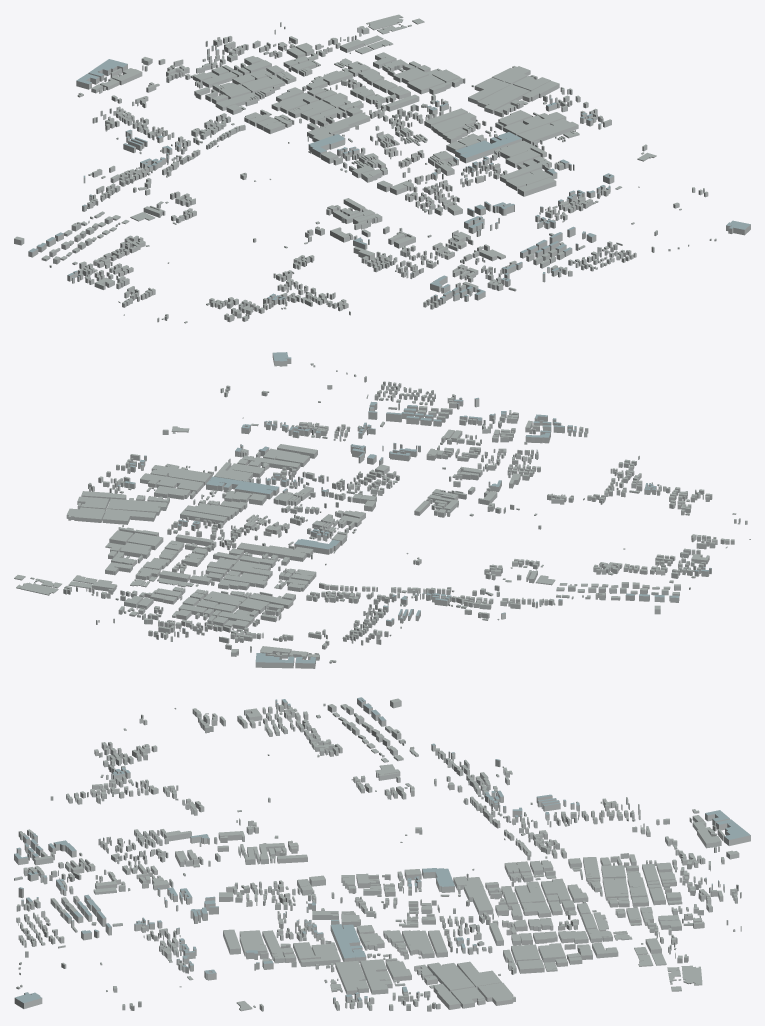
Rendered from far.glb.
3 renders of one model, top to bottom at view 1: azimuth 30°, elevation 25°; view 2: azimuth 150°, elevation 25°; view 3: azimuth 270°, elevation 25°, orthographic. The views are drawn at different scales.
Bounding box in the file's own units: 2104 × 29.1 × 2122.
